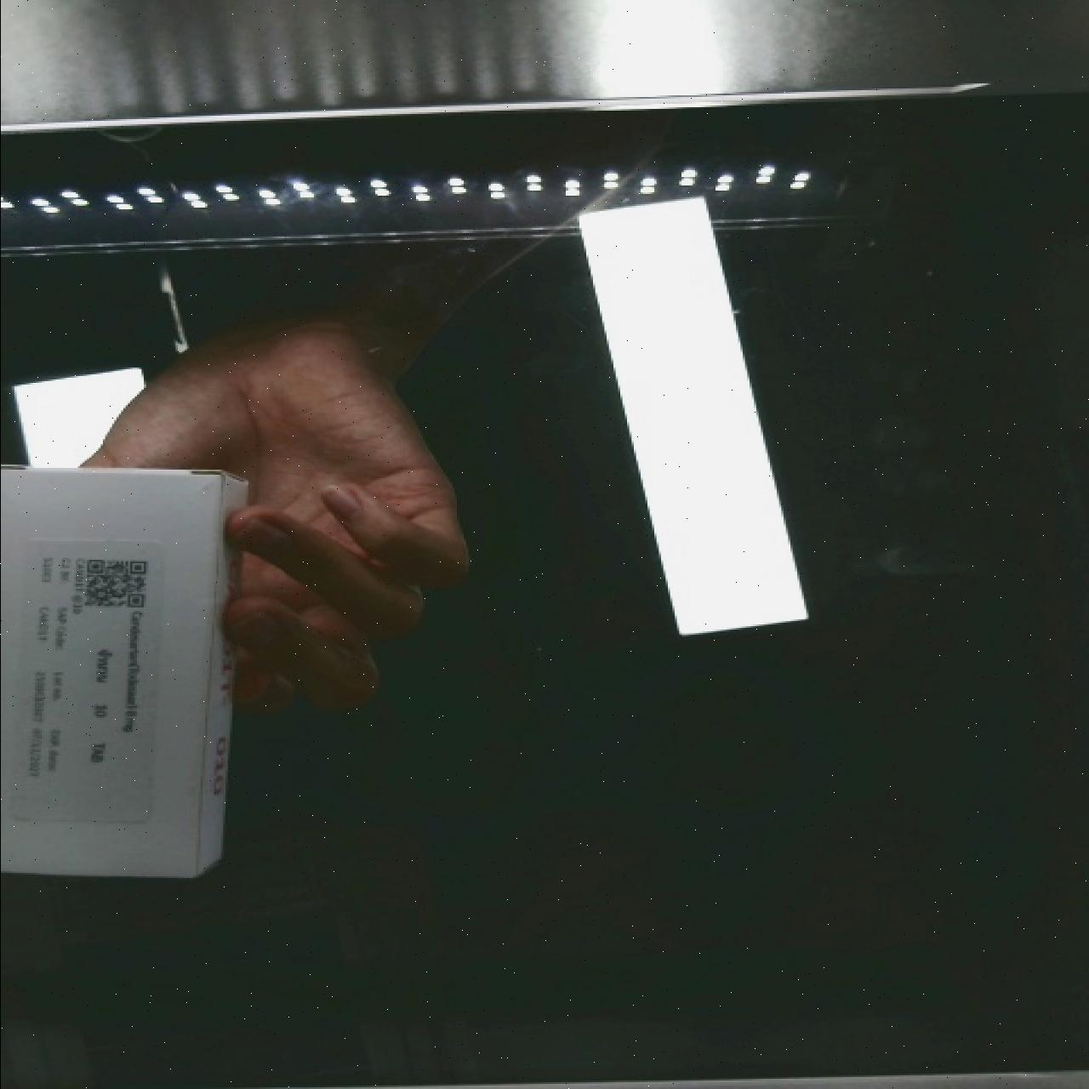qr_code: (54, 538, 170, 628)
